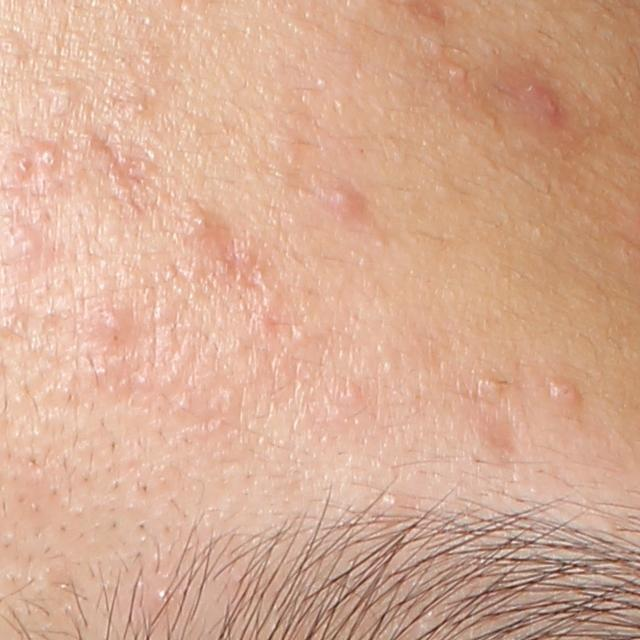comedo: (47, 79, 82, 117), (474, 368, 507, 395), (132, 99, 152, 117), (346, 383, 363, 404), (446, 65, 468, 81)
papule: (519, 78, 565, 122), (182, 203, 229, 246), (324, 182, 370, 220), (87, 305, 128, 339), (548, 377, 582, 407)
